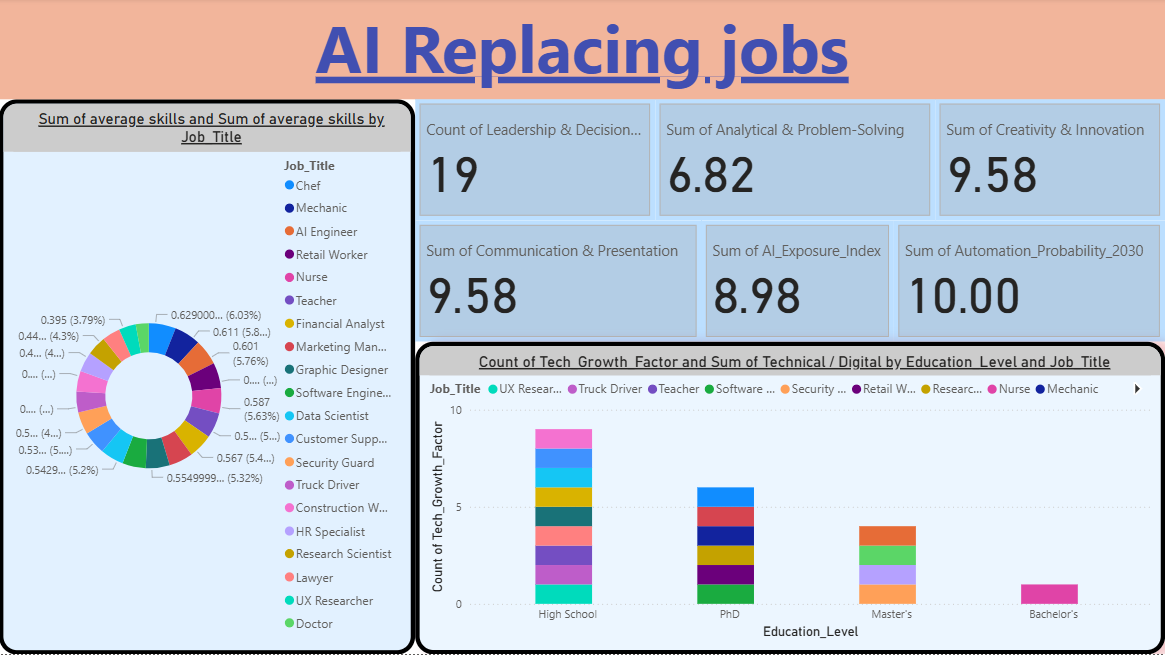

This screenshot's page, from the dashboard's own definition file:
{"tool":"powerbi","page":{"name":"Page 1","canvas":[1280,720],"ordinal":0},"visuals":[{"type":"ribbonChart","fields":{"Category":["ai.Education_Level"],"Series":["ai.Job_Title"],"Y":["Count(ai.Tech_Growth_Factor)"]},"box":[456.9,377.4,823.3,343.1],"z":0},{"type":"donutChart","fields":{"Y":["Sum(ai.average skills)","Sum(ai.average skills)"],"Category":["ai.Job_Title"]},"box":[0,111.1,456.9,609.3],"z":1000},{"type":"textbox","box":[0,0,1280.3,111.1],"z":2000},{"type":"cardVisual","fields":{"Data":["Sum(ai.AI_Exposure_Index)"]},"box":[771.2,244.3,211.3,133.1],"z":3000},{"type":"cardVisual","fields":{"Data":["Sum(ai.Creativity & Innovation)"]},"box":[1027.8,111.1,252.5,133.1],"z":5000},{"type":"cardVisual","fields":{"Data":["Sum(ai.Analytical & Problem-Solving)"]},"box":[720.4,111.1,307.4,133.1],"z":8000},{"type":"cardVisual","fields":{"Data":["Sum(ai.Automation_Probability_2030)"]},"box":[982.5,244.3,297.8,133.1],"z":9000},{"type":"cardVisual","fields":{"Data":["Count(ai.Leadership & Decision-Making)"]},"box":[456.9,111.1,263.5,133.1],"z":9001},{"type":"cardVisual","fields":{"Data":["Sum(ai.Communication & Presentation)"]},"box":[456.9,244.3,314.2,133.1],"z":9002}]}

Visuals, with their boxes in screenshot pixels (x1, y1, x2, y2), scaled from the page's 1280x720 canvas onto the 1165x655 screenshot:
ribbonChart - ai.Education_Level x ai.Job_Title: <box>416,343,1164,654</box>
donutChart - Sum(ai.average skills) x Sum(ai.average skills): <box>0,101,416,654</box>
textbox: <box>0,0,1164,101</box>
cardVisual - Sum(ai.AI_Exposure_Index): <box>702,222,894,343</box>
cardVisual - Sum(ai.Creativity & Innovation): <box>935,101,1164,222</box>
cardVisual - Sum(ai.Analytical & Problem-Solving): <box>656,101,935,222</box>
cardVisual - Sum(ai.Automation_Probability_2030): <box>894,222,1164,343</box>
cardVisual - Count(ai.Leadership & Decision-Making): <box>416,101,656,222</box>
cardVisual - Sum(ai.Communication & Presentation): <box>416,222,702,343</box>
